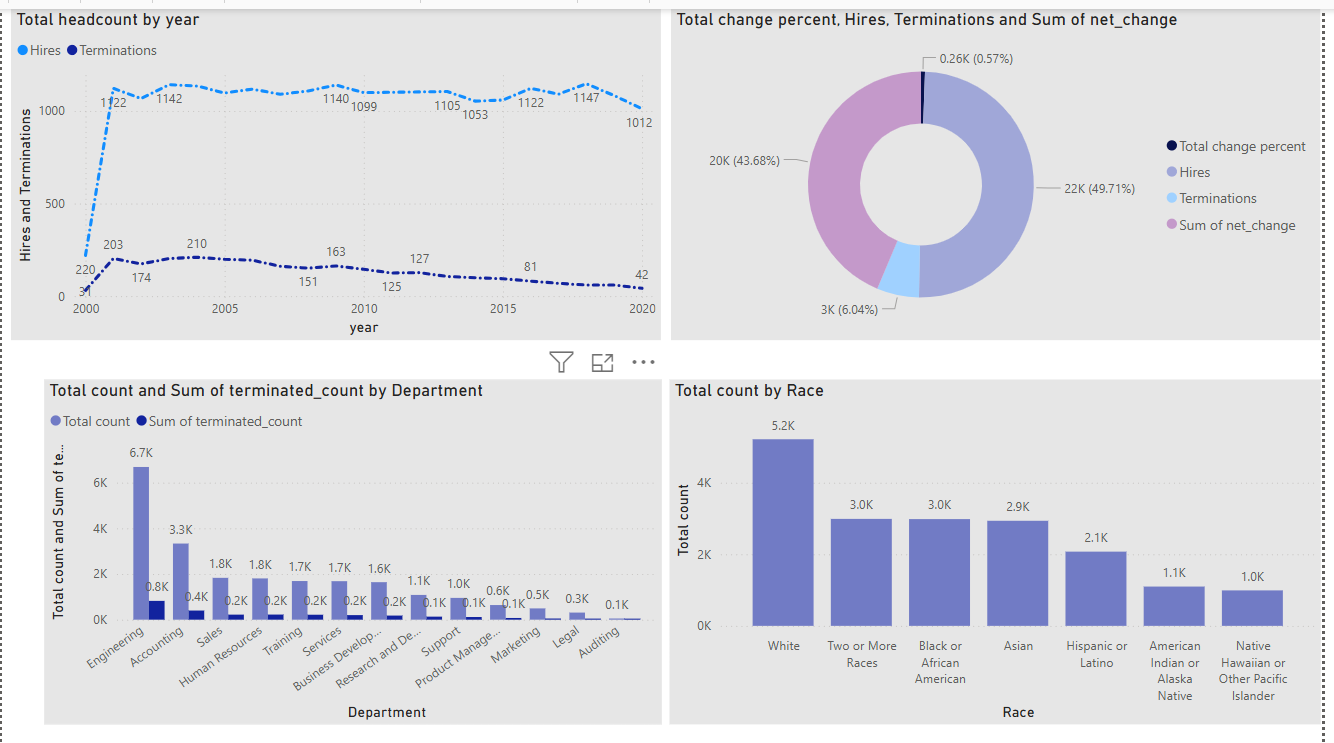

This screenshot's page, from the dashboard's own definition file:
{"tool":"powerbi","page":{"name":"Page 2","canvas":[1280,720],"ordinal":1},"visuals":[{"type":"lineChart","title":"Total headcount by year","fields":{"Y":["Sum(termination and hires.hires)","Sum(termination and hires.terminations)"],"Category":["termination and hires.year"]},"box":[9.3,0,630.4,321.4],"z":0},{"type":"clusteredColumnChart","fields":{"Y":["Sum(total_count_of_termination_rate.total_count)","Sum(total_count_of_termination_rate.terminated_count)"],"Category":["total_count_of_termination_rate.department"]},"box":[40.8,359.3,599.4,334.8],"z":1},{"type":"donutChart","fields":{"Y":["Sum(termination and hires.change_percent)","Sum(termination and hires.hires)","Sum(termination and hires.terminations)","Sum(termination and hires.net_change)"]},"box":[649,0,630,321],"z":2},{"type":"columnChart","fields":{"Category":["total_race_count.race"],"Y":["Sum(total_race_count.count)"]},"box":[648.4,359.3,632.1,334.8],"z":3}]}

Visuals, with their boxes in screenshot pixels (x1, y1, x2, y2), scaled from the page's 1280x720 canvas onto the 1334x743 screenshot:
"Total headcount by year" lineChart: [10, 0, 667, 332]
clusteredColumnChart - Sum(total_count_of_termination_rate.total_count) x Sum(total_count_of_termination_rate.terminated_count): [43, 371, 667, 716]
donutChart - Sum(termination and hires.change_percent) x Sum(termination and hires.hires): [676, 0, 1333, 331]
columnChart - total_race_count.race x Sum(total_race_count.count): [676, 371, 1333, 716]
